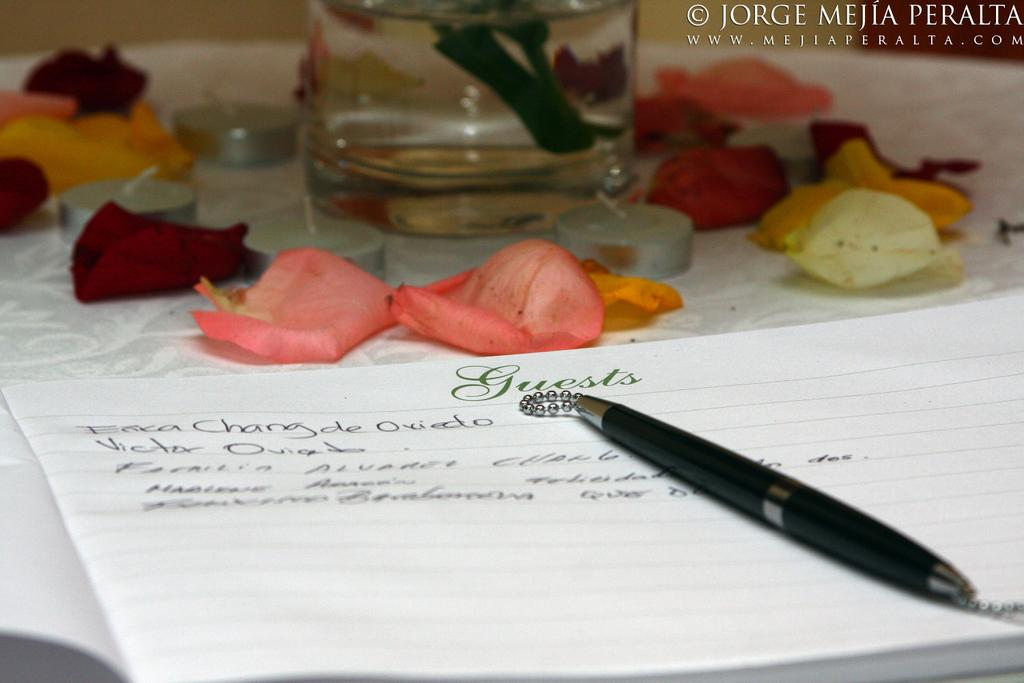pen: (524, 387, 1023, 613)
